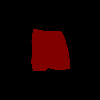bermuda: (30, 28, 70, 70)
